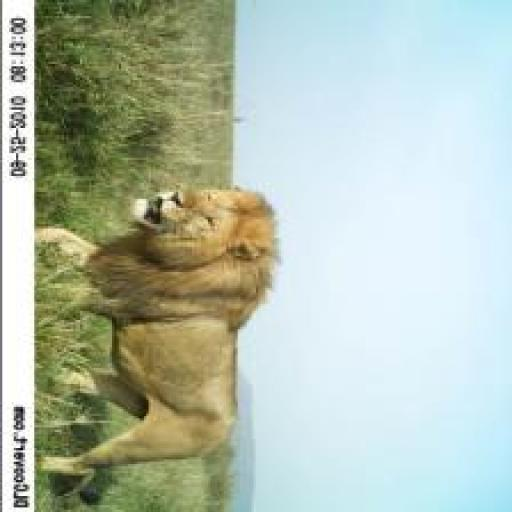lion: (36, 176, 308, 496)
